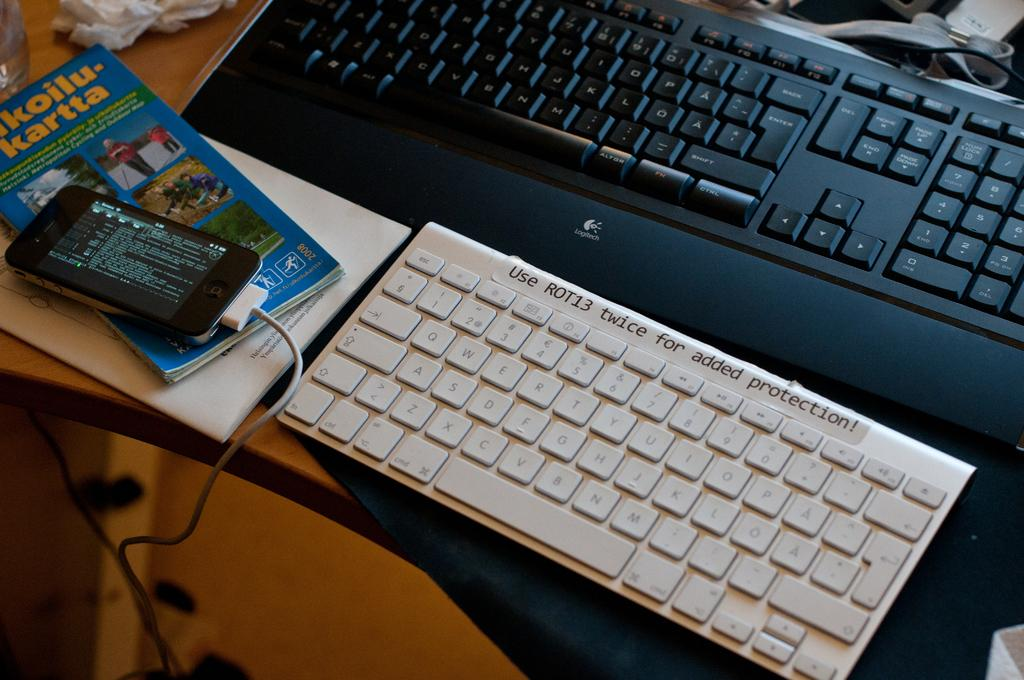Computer-keyboard: (176, 0, 1023, 450), (271, 219, 979, 679)
